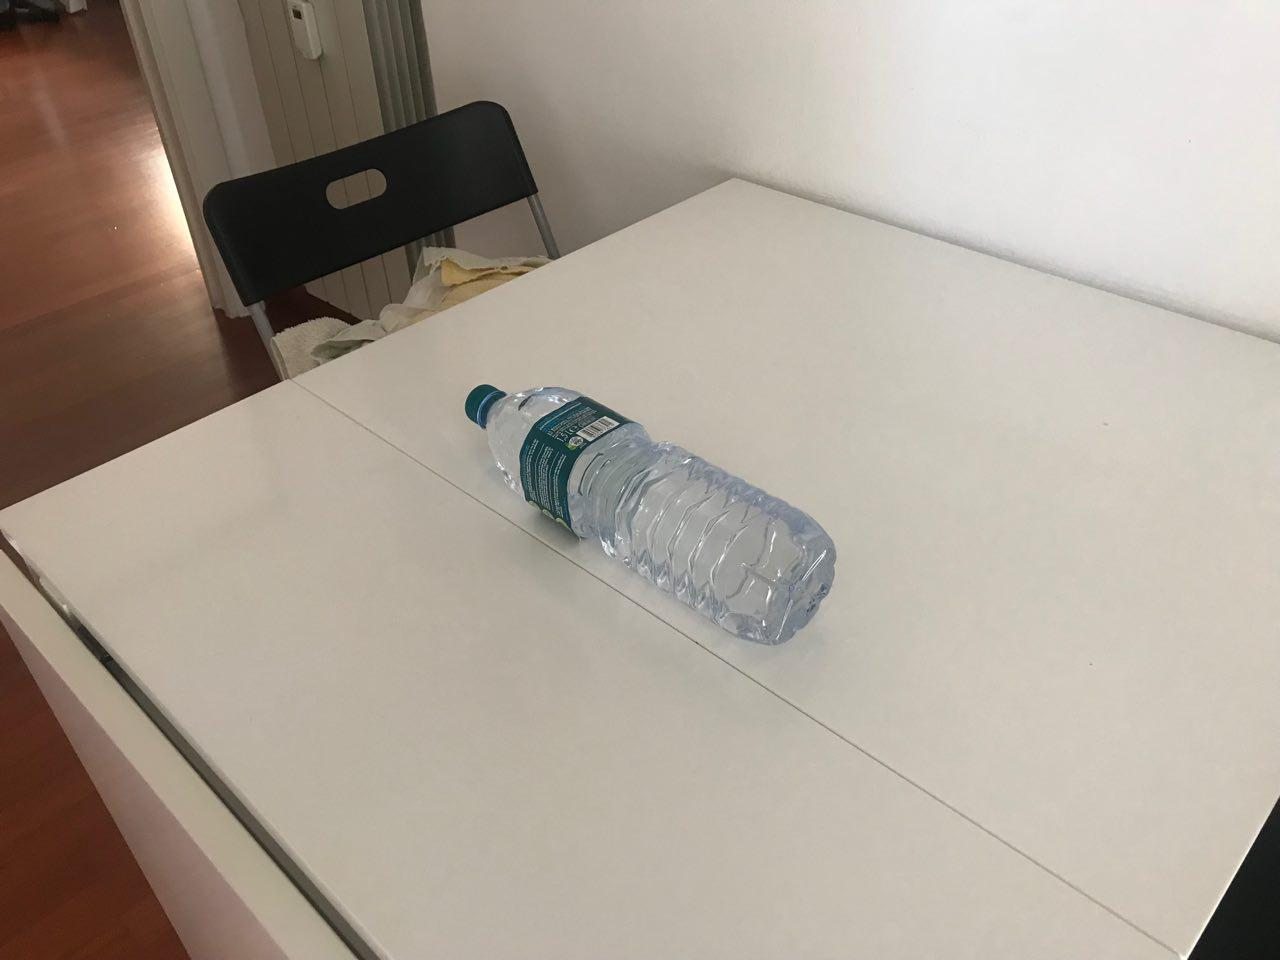san_bernardo: (463, 383, 838, 647)
